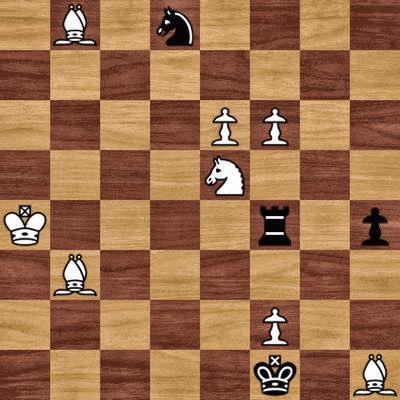black-king: (250, 350, 300, 400)
black-knight: (150, 0, 200, 50)
black-pawn: (350, 200, 400, 250)
black-rook: (250, 200, 300, 250)
white-bishop: (50, 0, 100, 50), (50, 250, 100, 300), (350, 350, 400, 400)
white-king: (0, 200, 50, 250)
white-knight: (200, 150, 250, 200)
white-pawn: (200, 100, 250, 150), (250, 100, 300, 150), (250, 300, 300, 350)
